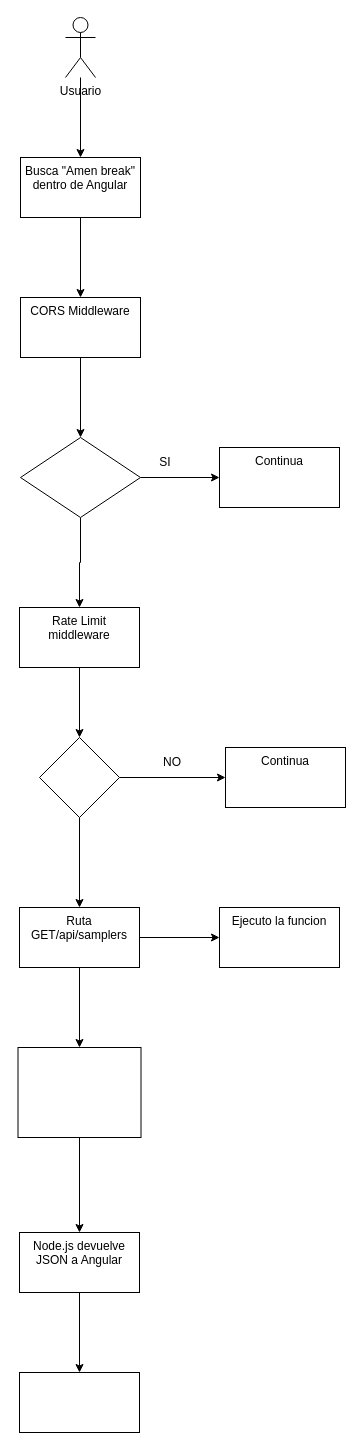
This 363x1450 diagram has some shape labels left out. The centre of each missing label's shape, as x and y in pixels:
"Angular renderiza las cards" belongs at point (79, 1402).
"El origen esta permitido?" belongs at point (80, 477).
"Node.js llama a Discogs con axios (usando la key de discogs de process.env)" belongs at point (79, 1092).
"Supero el limite?" belongs at point (79, 777).
